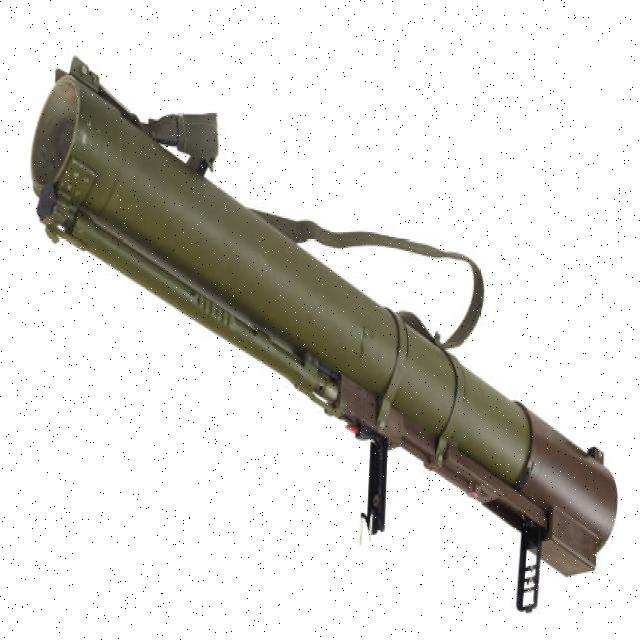bazooka: (27, 50, 627, 625)
